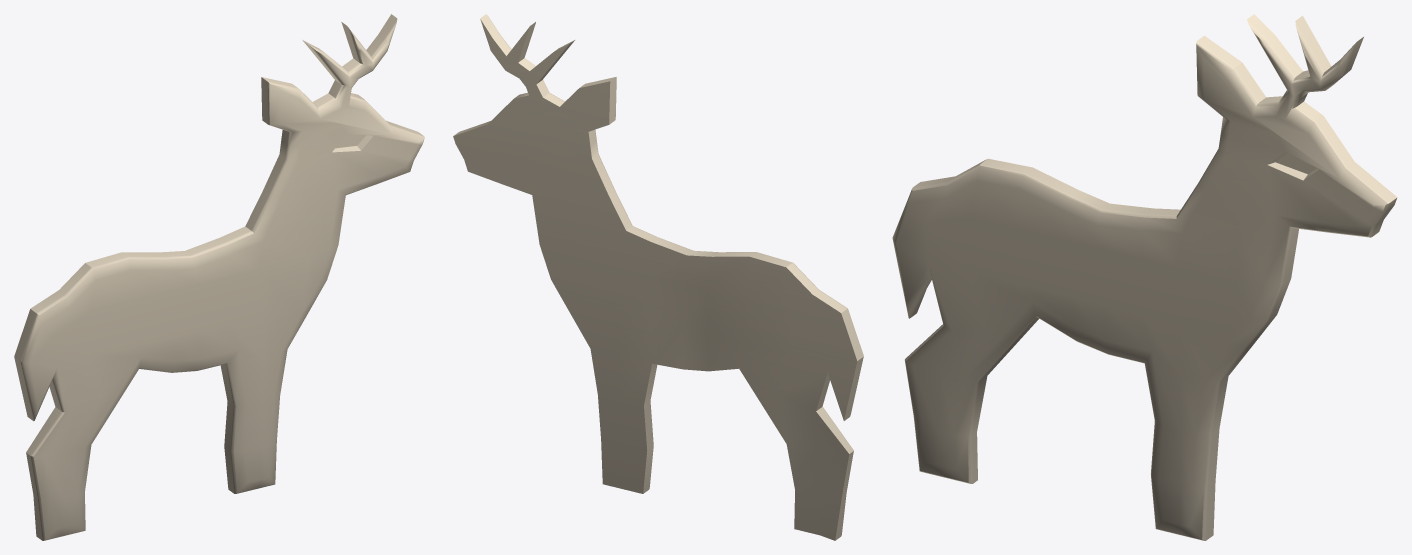
File: peura_reliefi.fbx
3 views of the same model, side by side, from view 1: azimuth 30°, elevation 25°; view 2: azimuth 150°, elevation 25°; view 3: azimuth 330°, elevation 25° (orthographic). The views are drawn at different scales.
Visible parts, largest first — view 1: pPlane4; view 2: pPlane4; view 3: pPlane4.
Part boxes in pixels (left/top/right/bottom): pPlane4: left=14, top=14, right=424, bottom=540; pPlane4: left=453, top=14, right=863, bottom=540; pPlane4: left=892, top=14, right=1397, bottom=540.
Size of the model in its own units: 0.9576 by 0.9971 by 0.0454.
